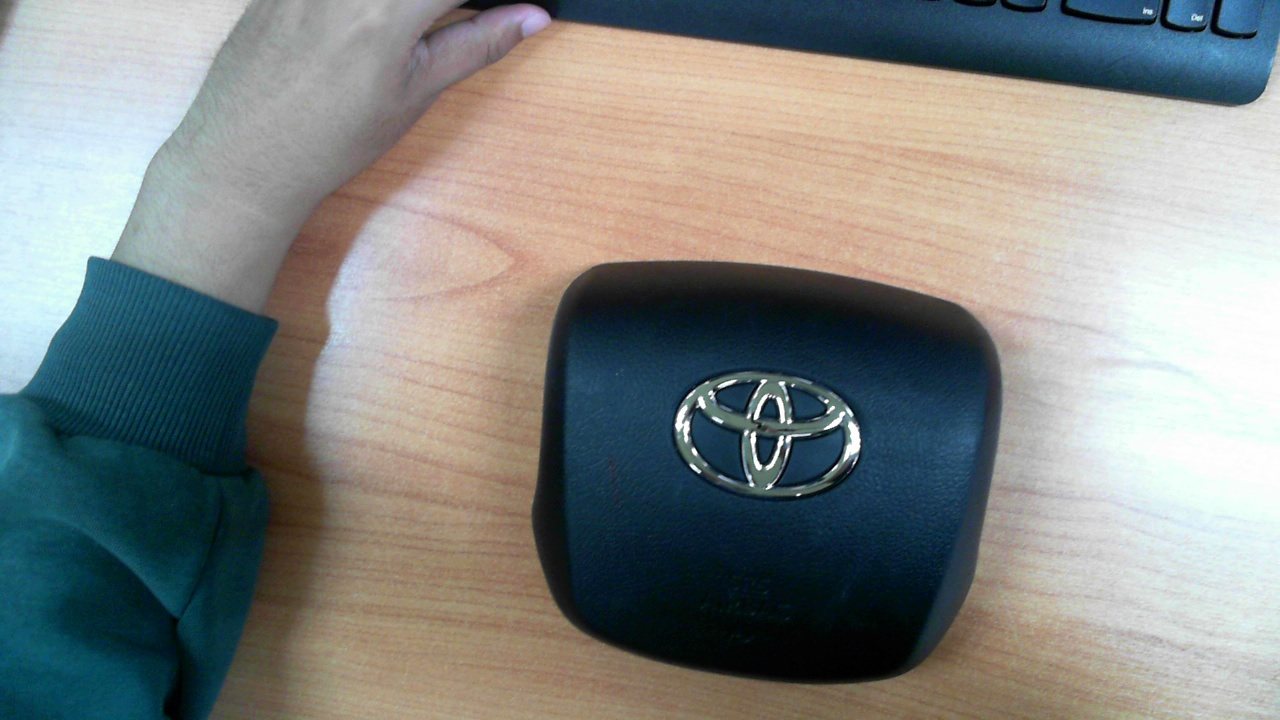Airbag: (530, 258, 1003, 687)
Toyota: (675, 371, 862, 497)
